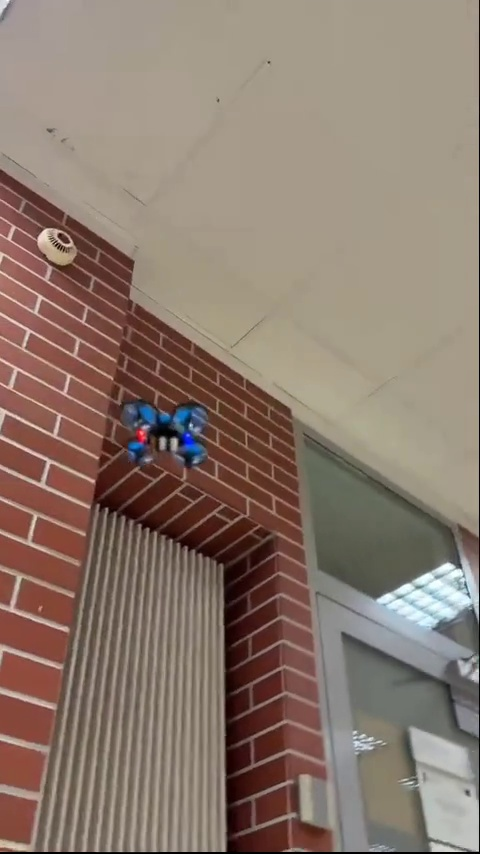drone: (120, 400, 206, 467)
